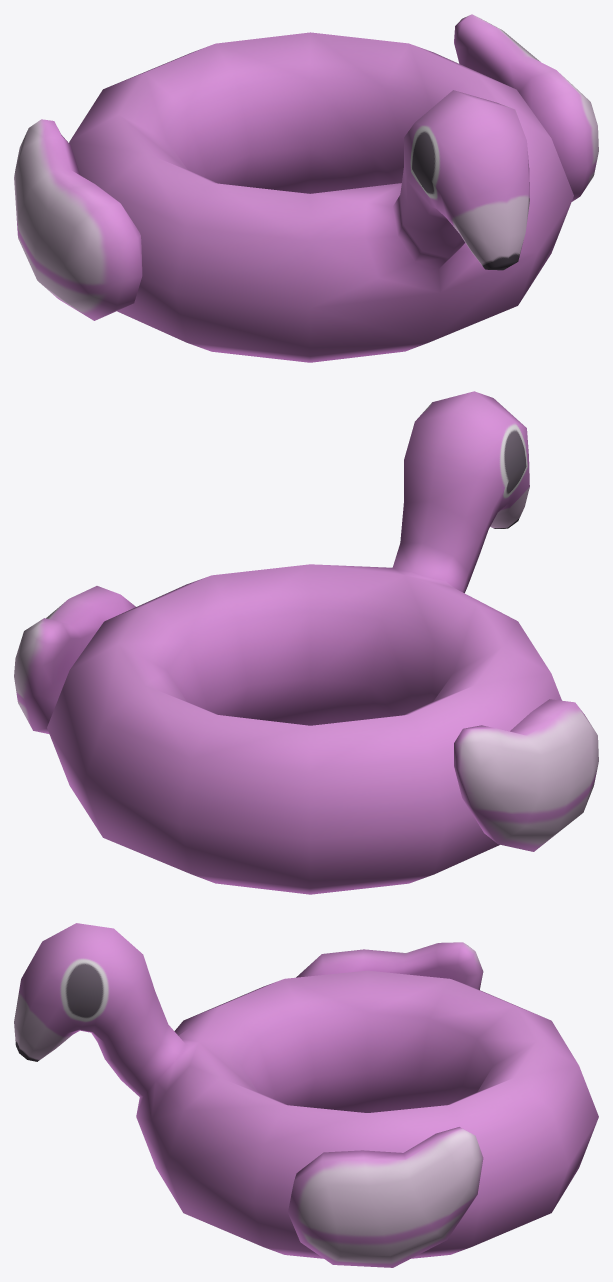
File: SM_pocketBg12.fbx
3 views of the same model, one above another, from view 1: azimuth 30°, elevation 25°; view 2: azimuth 150°, elevation 25°; view 3: azimuth 270°, elevation 25° (orthographic). The views are drawn at different scales.
Parts seen in each view (by area): view 1: pocketBg12; view 2: pocketBg12; view 3: pocketBg12.
Part boxes in pixels (x1=…): pocketBg12: x1=14, y1=14, x2=598, y2=362; pocketBg12: x1=14, y1=391, x2=598, y2=894; pocketBg12: x1=14, y1=923, x2=598, y2=1267.
Bounding box in the file's own units: 56.8 × 30.65 × 60.45.
